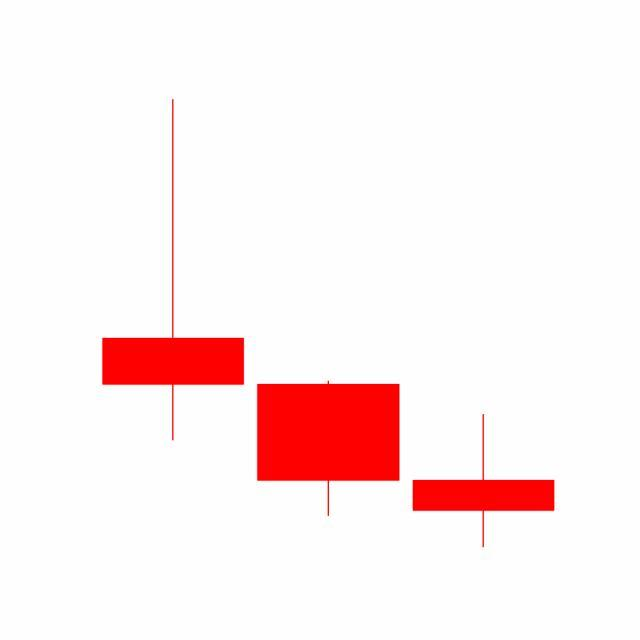Spinning Top: (406, 412, 562, 549)
